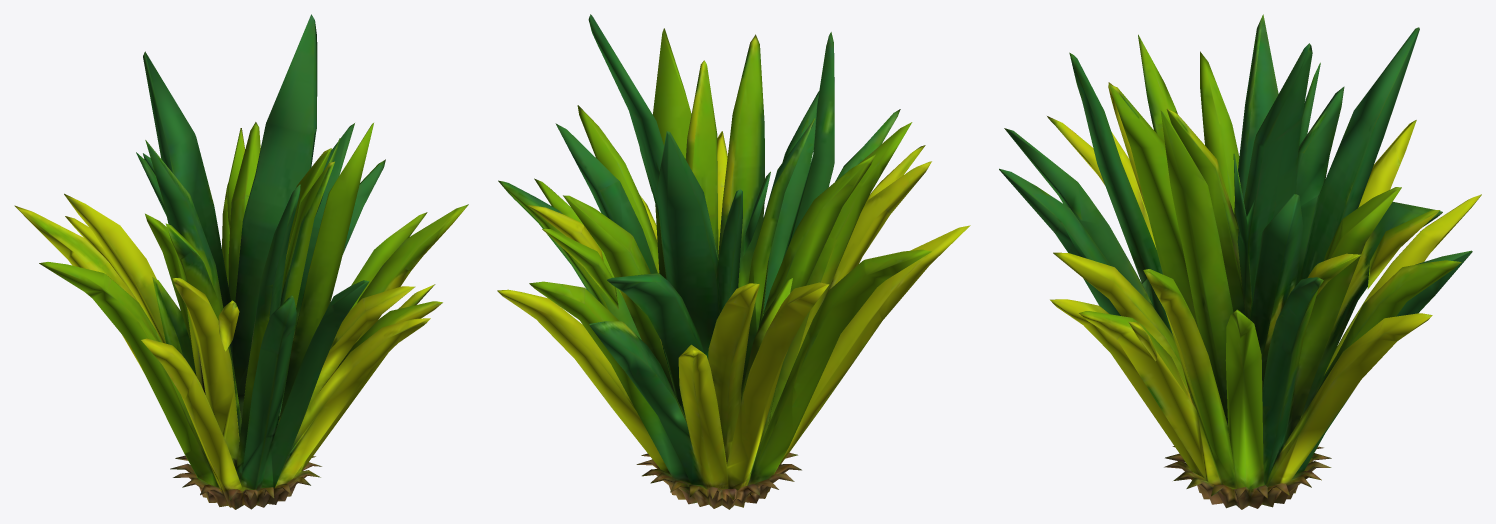
File: grass-clump-a.glb
The picture shows the model from 3 angles, left to right: view 1: azimuth 30°, elevation 25°; view 2: azimuth 150°, elevation 25°; view 3: azimuth 270°, elevation 25°; orthographic projection. The views are drawn at different scales.
Parts seen in each view (by area): view 1: node_0; view 2: node_0; view 3: node_0.
Boxes of the visible parts, <box> form: node_0: <box>14,14,468,509</box>; node_0: <box>497,14,970,509</box>; node_0: <box>999,14,1481,509</box>.
Size of the model in its own units: 0.4544 by 0.5 by 0.4405.
Materials: 1 (1 with a texture image).
